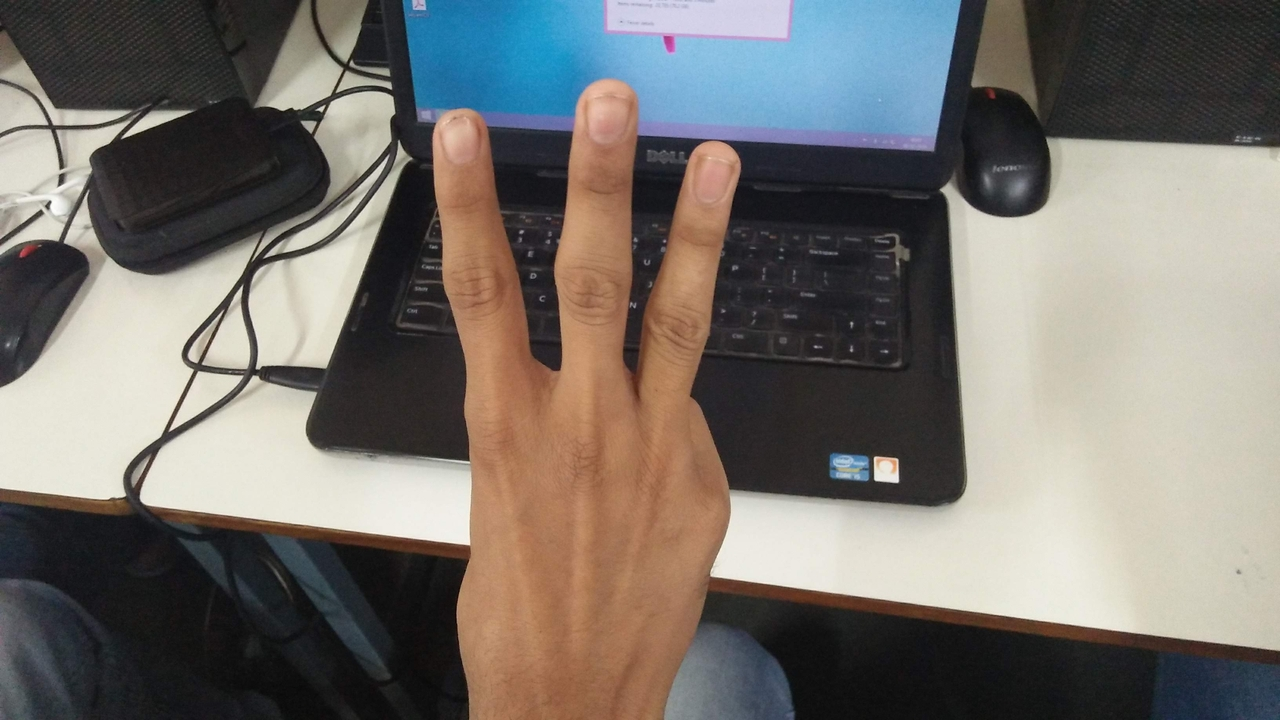fingertip: (674, 134, 752, 200), (572, 74, 642, 140), (424, 108, 494, 172)
